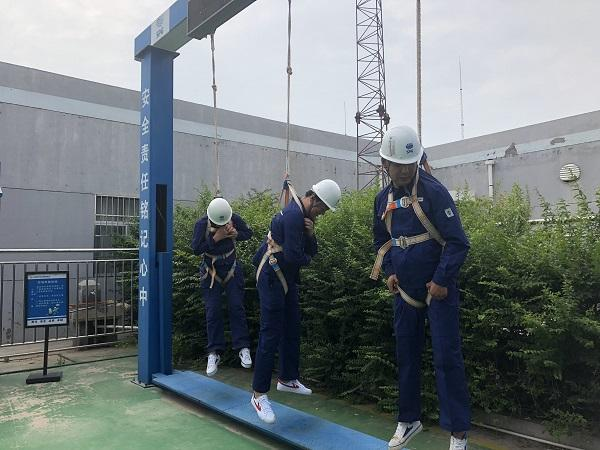helmet: (380, 125, 425, 166), (313, 179, 343, 214), (207, 198, 234, 227)
